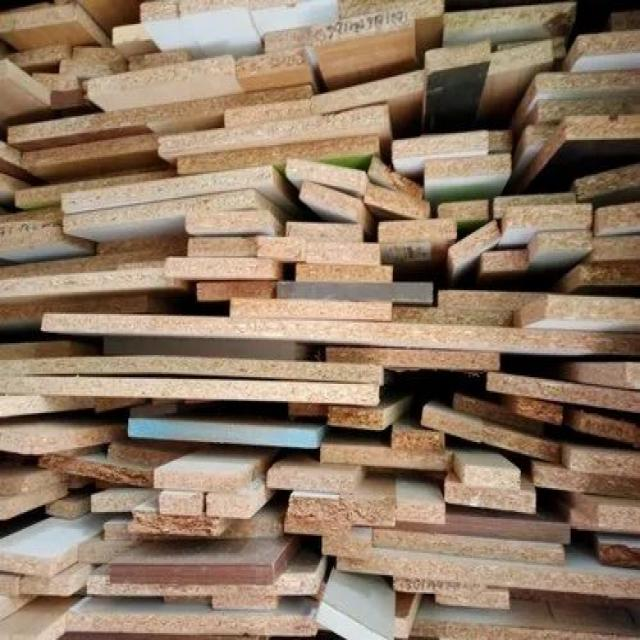green waste: (4, 8, 636, 638)
